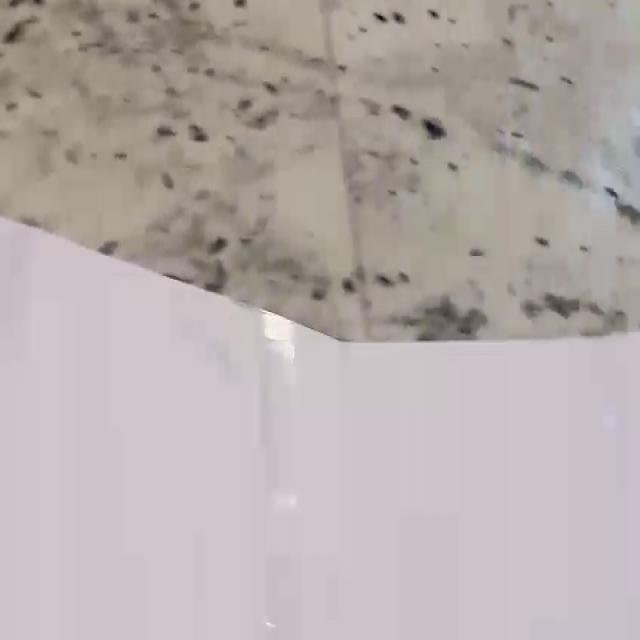road: (0, 216, 640, 640)
